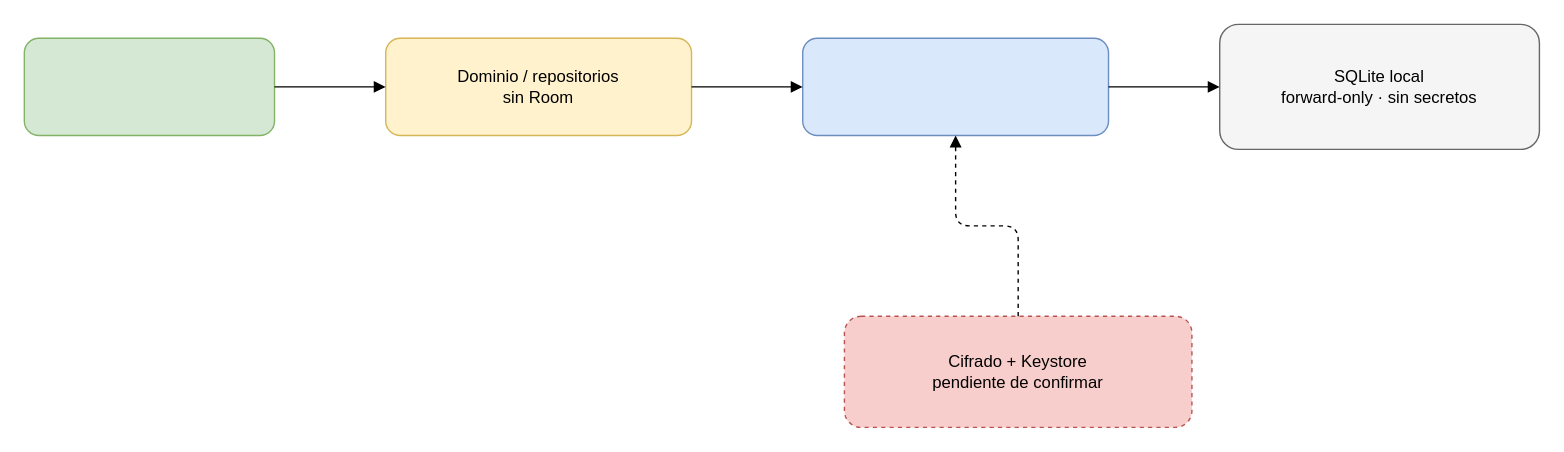
Some shapes in this 1564 by 452 pixel diagram are drawn without their labels. Each missing label, with the box of its shape:
Adapters Room piloto datos sintéticos: (801, 37, 1109, 136)
UI Compose: (23, 37, 275, 136)
